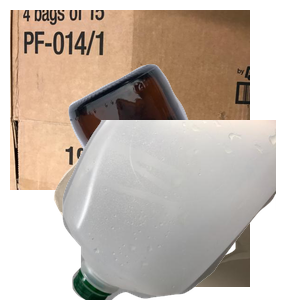cardboard: (10, 10, 250, 190)
glass: (66, 61, 300, 241)
plastic: (60, 120, 300, 300)
trash: (51, 120, 291, 300)
